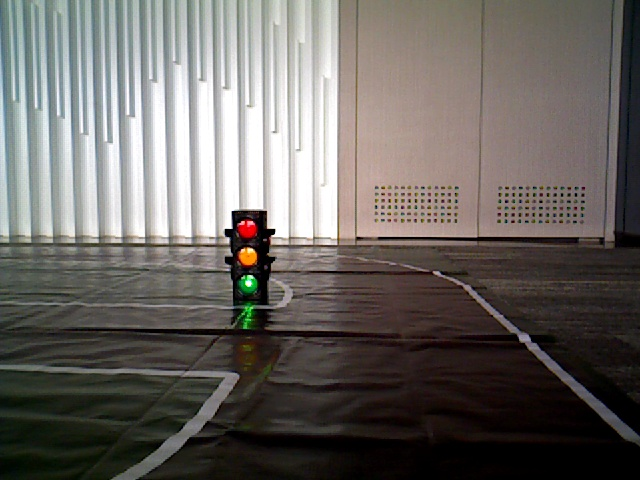green: (234, 212, 260, 294)
